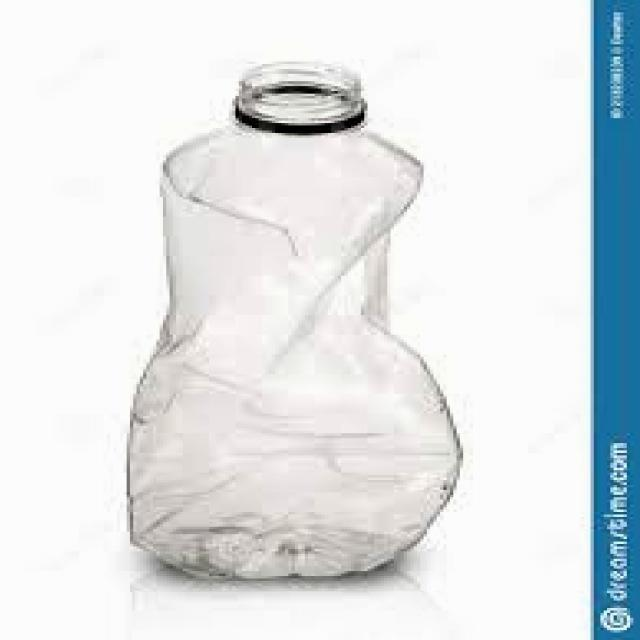defected: (96, 48, 500, 594)
